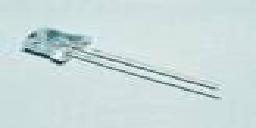LED: (19, 26, 226, 102)
